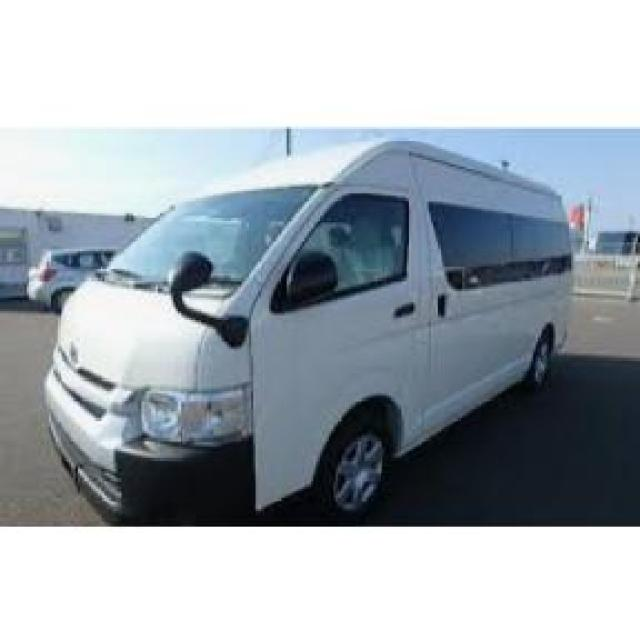Van: (48, 140, 580, 526)
